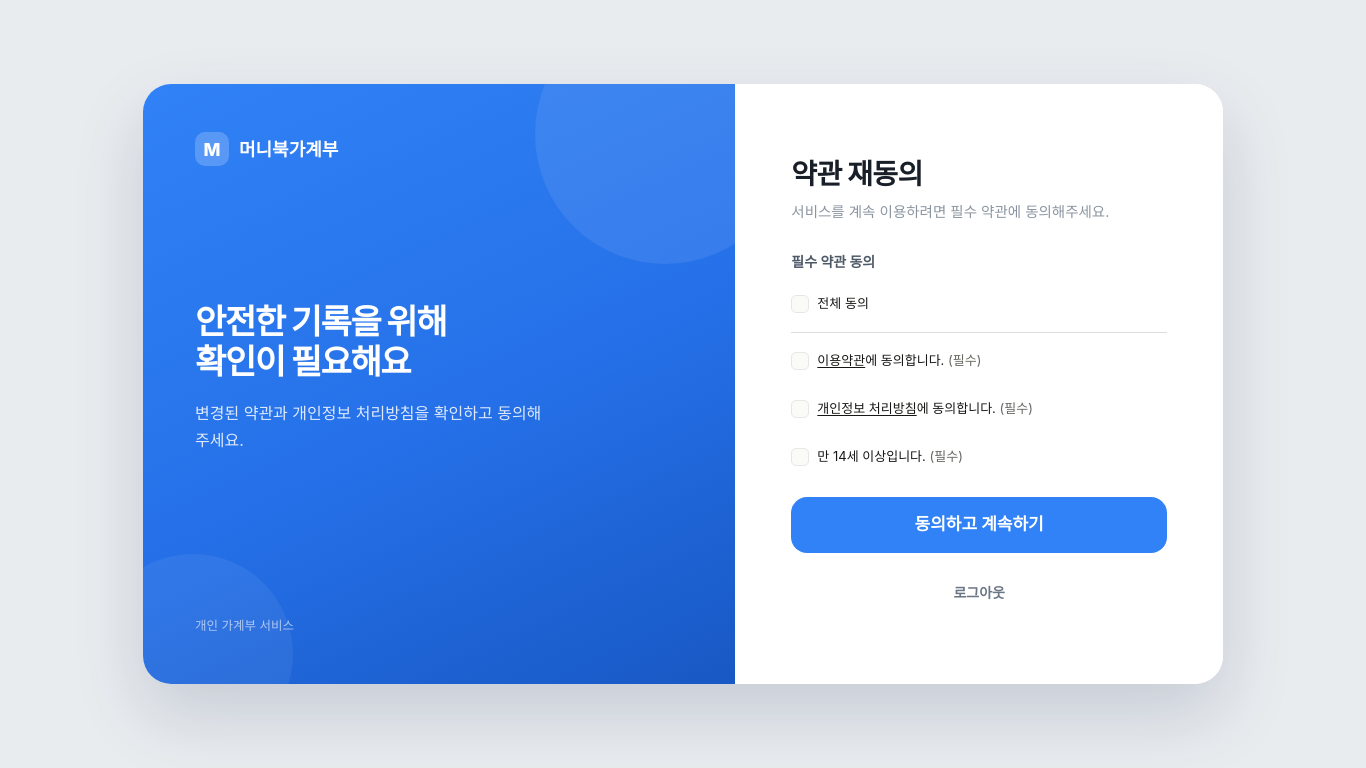
Test: ConsentPage › shows a Korean error and keeps focus on the first missing choice
This screenshot has width=1366, height=768.
Step 1. Click the checkbox labelled "개인정보 처리방침 에 동의합니다. (필수)" → (912, 409), box [791,400,1033,418]
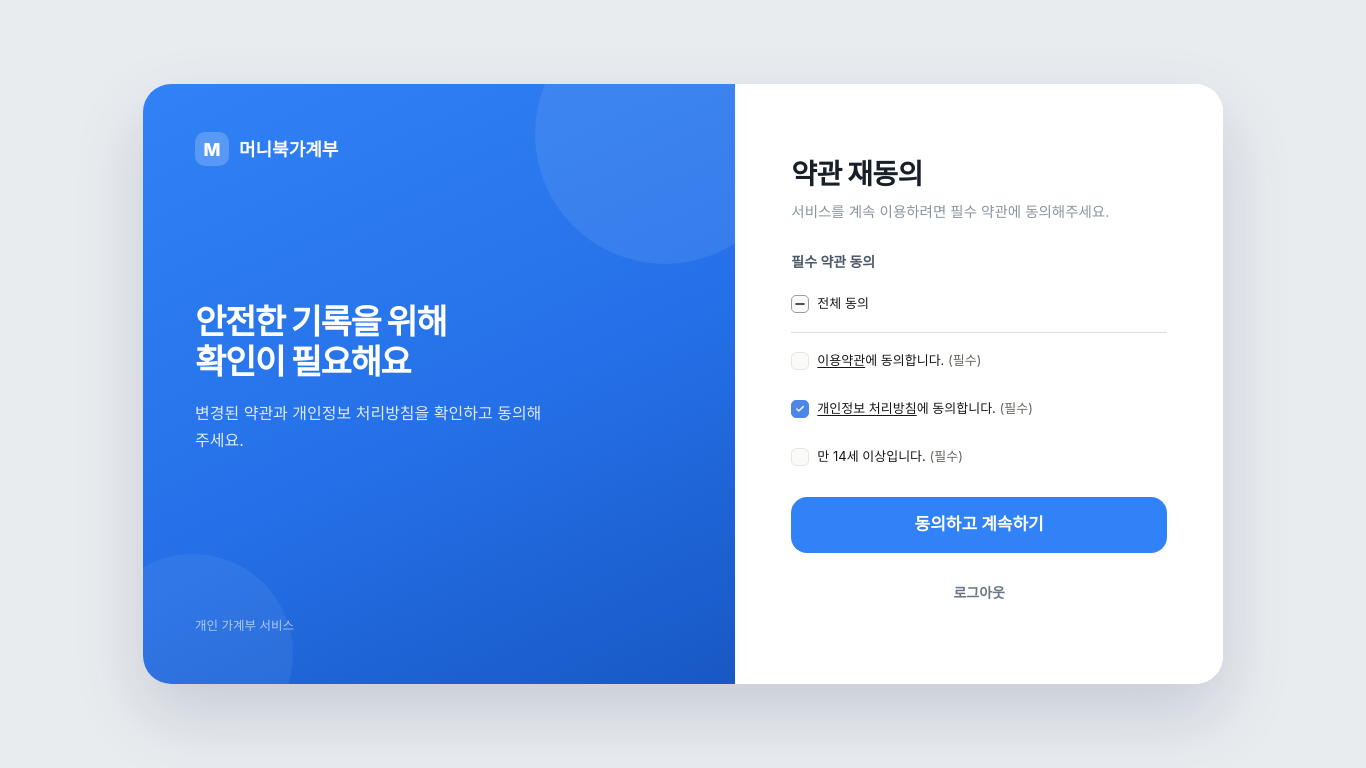
Step 2. Click the checkbox labelled "만 14세 이상입니다. (필수)" → (877, 457), box [791,448,963,466]
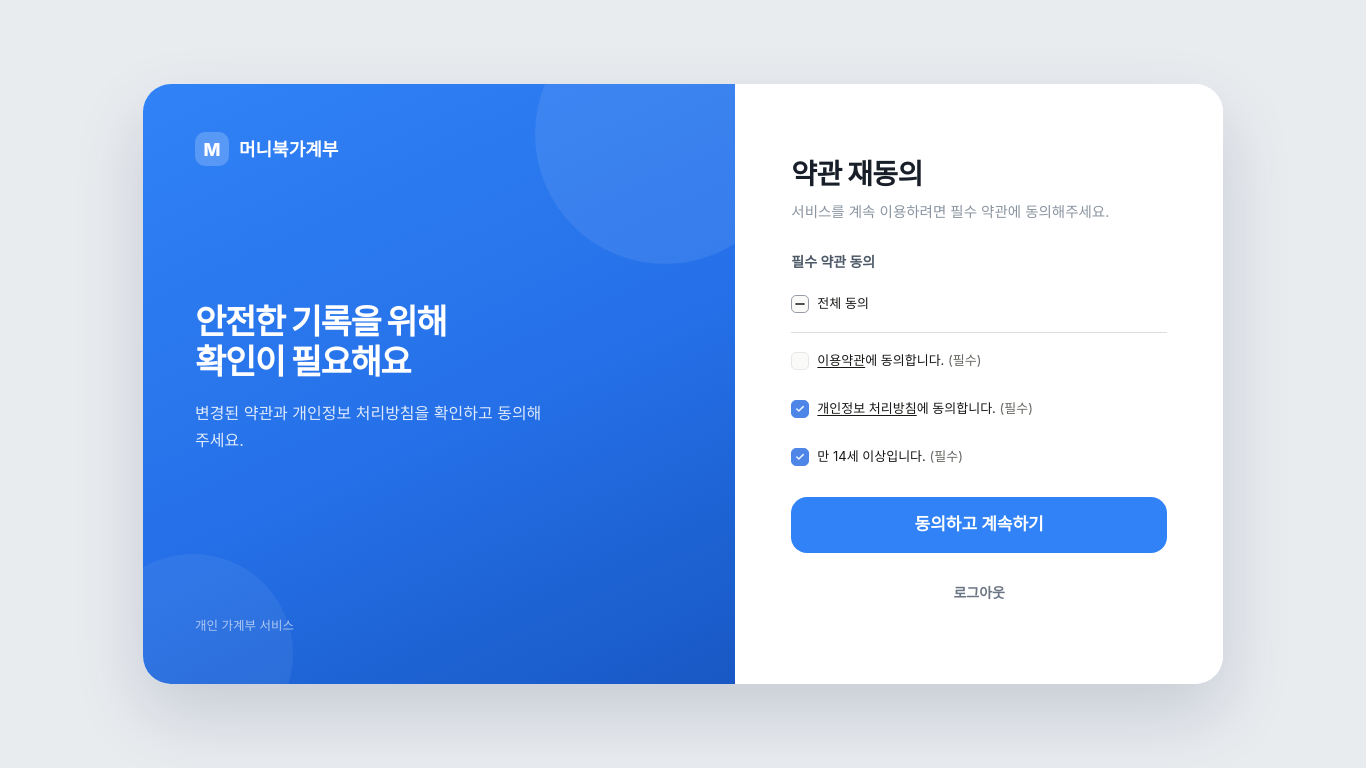
Step 3. Click the button "동의하고 계속하기" → (979, 525), box [791,497,1167,553]
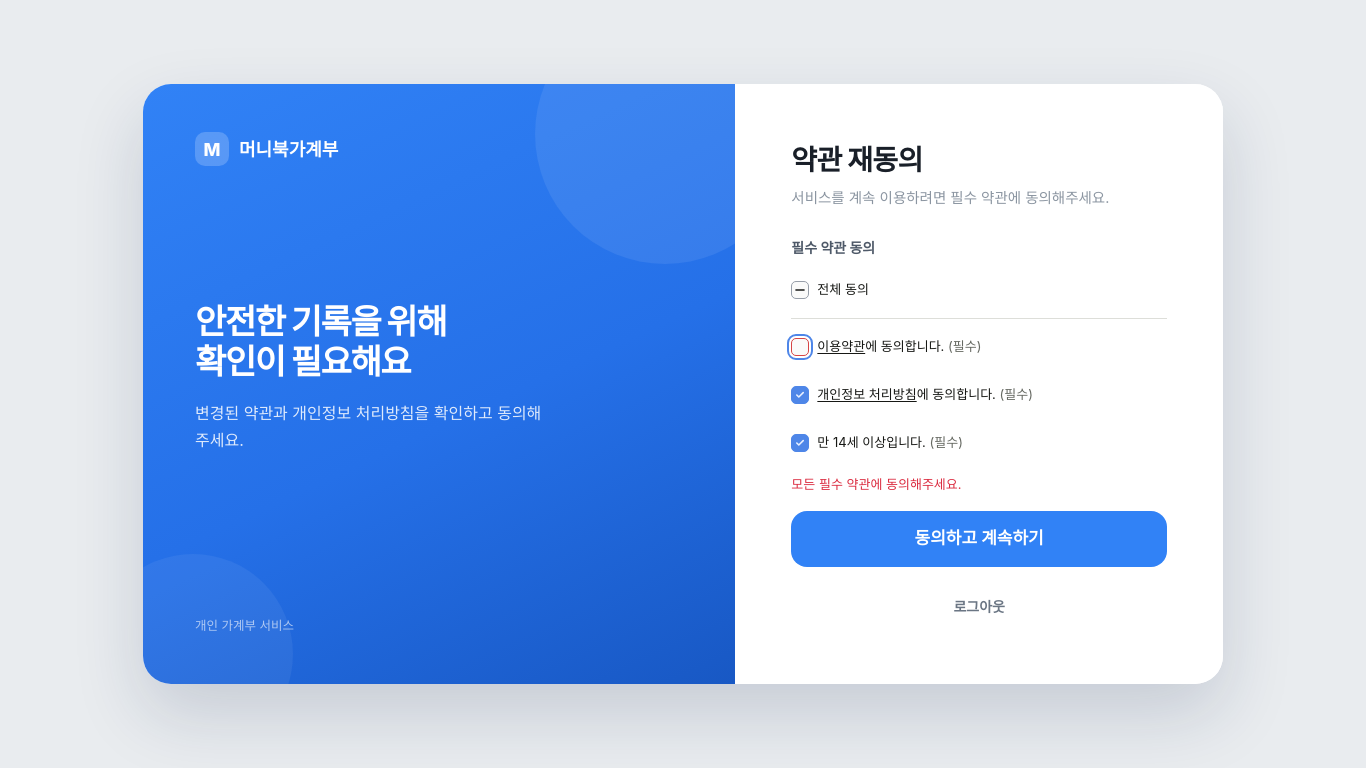
expect the message reads "모든 필수 약관에 동의해주세요.": met, box [791,476,962,492]
